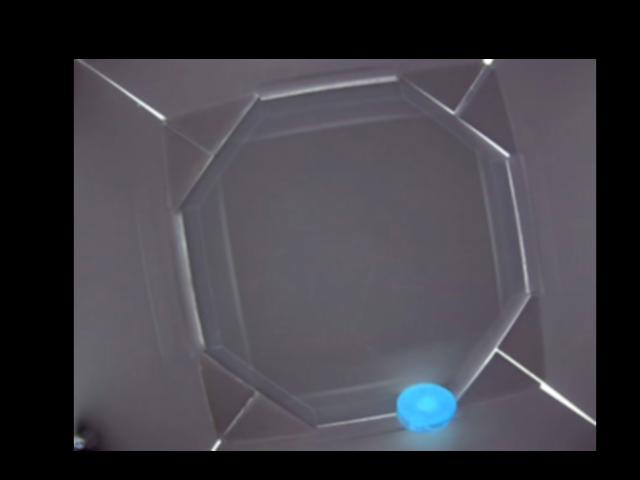Carrot: (396, 383, 456, 431)
